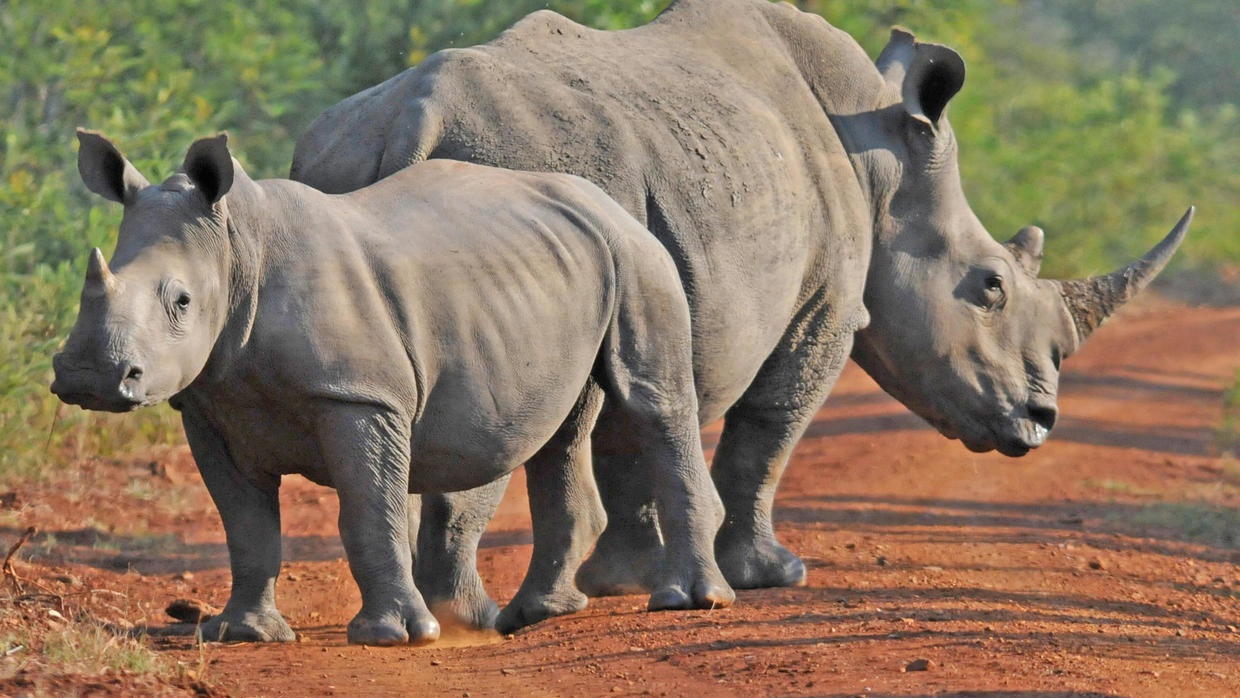rhino: (283, 2, 1191, 585), (44, 125, 739, 649)
